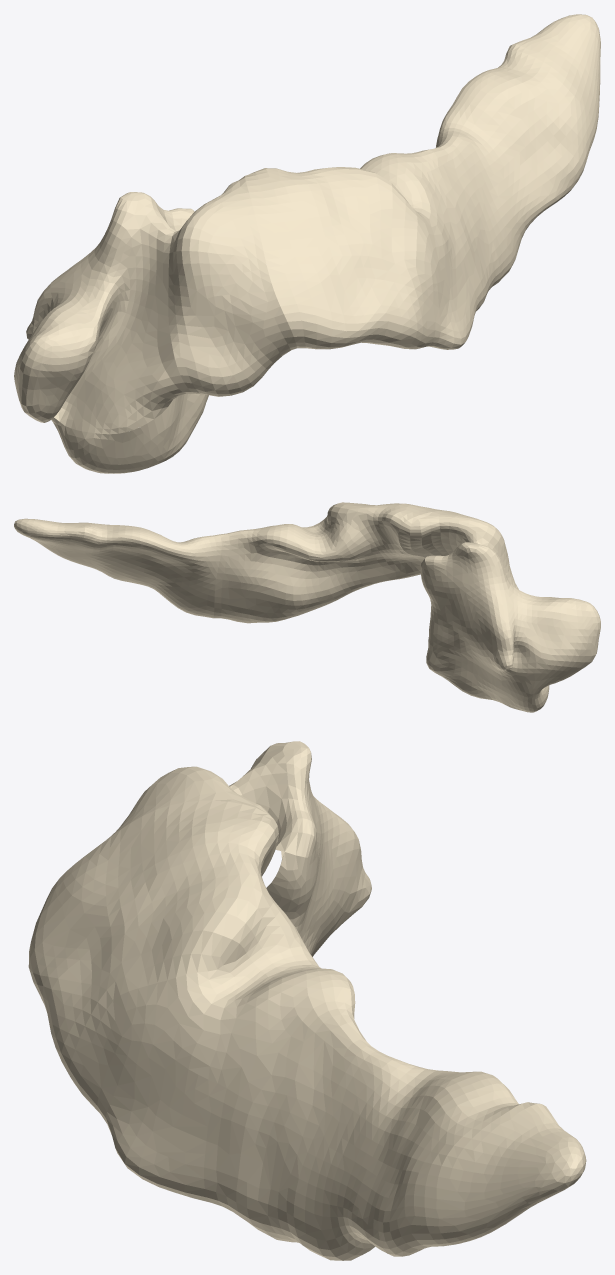
Rendered from VH_F_Pancreas_0.8.glb.
3 renders of one model, top to bottom at view 1: azimuth 30°, elevation 25°; view 2: azimuth 150°, elevation 25°; view 3: azimuth 270°, elevation 25°, orthographic. The views are drawn at different scales.
Visible parts, largest first — view 1: VH_F_body_of_pancreas, VH_F_head_of_pancreas, VH_F_tail_of_pancreas, VH_F_neck_of_pancreas, VH_F_uncinate_process; view 2: VH_F_body_of_pancreas, VH_F_head_of_pancreas, VH_F_tail_of_pancreas, VH_F_neck_of_pancreas, VH_F_uncinate_process; view 3: VH_F_body_of_pancreas, VH_F_tail_of_pancreas, VH_F_head_of_pancreas, VH_F_neck_of_pancreas.
Part boxes in pixels (box(x1,y1,x2,y2)): VH_F_body_of_pancreas: box(245, 145, 500, 349); VH_F_head_of_pancreas: box(14, 192, 194, 434); VH_F_tail_of_pancreas: box(436, 14, 600, 282); VH_F_neck_of_pancreas: box(168, 176, 296, 396); VH_F_uncinate_process: box(53, 393, 208, 473); VH_F_body_of_pancreas: box(213, 502, 449, 623); VH_F_head_of_pancreas: box(420, 542, 600, 694); VH_F_tail_of_pancreas: box(14, 518, 221, 618); VH_F_neck_of_pancreas: box(398, 511, 518, 589); VH_F_uncinate_process: box(426, 642, 549, 712); VH_F_body_of_pancreas: box(28, 800, 371, 1245); VH_F_tail_of_pancreas: box(293, 1046, 586, 1260); VH_F_head_of_pancreas: box(229, 741, 371, 956); VH_F_neck_of_pancreas: box(108, 766, 271, 838).
Size of the model in its own units: 0.1721 by 0.0579 by 0.0845.
